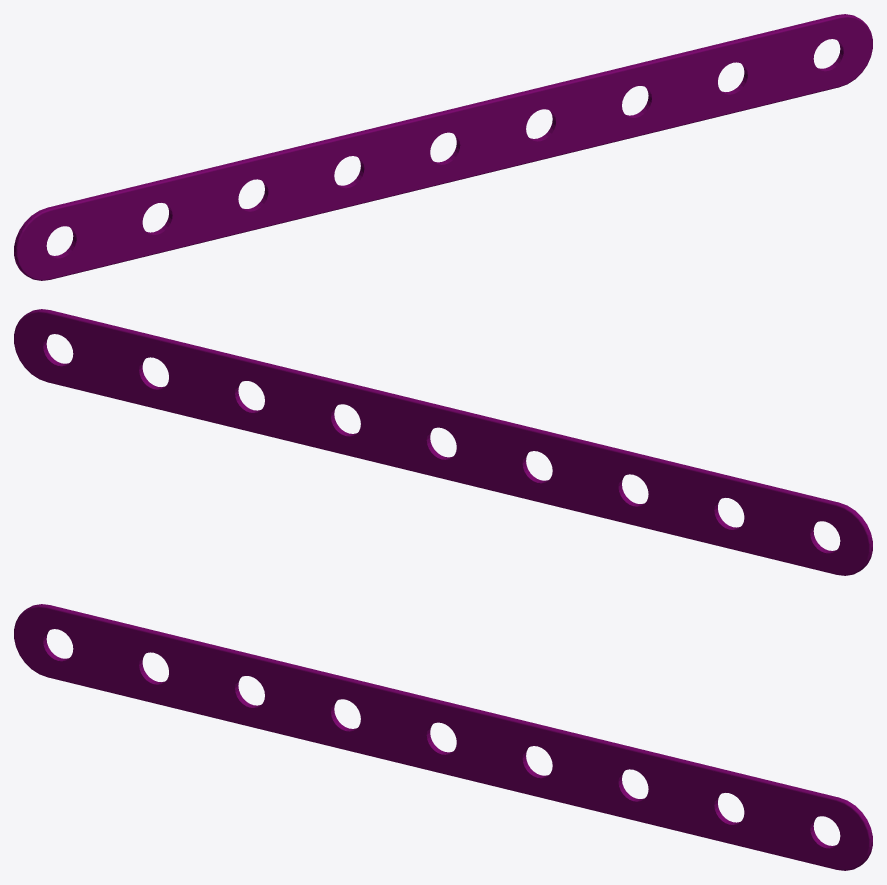
File: ThanhThanng_9.glb
3 renders of one model, top to bottom at view 1: azimuth 30°, elevation 25°; view 2: azimuth 150°, elevation 25°; view 3: azimuth 330°, elevation 25°, orthographic.
Visible parts, largest first — view 1: defaultobject.001; view 2: defaultobject.001; view 3: defaultobject.001.
Part boxes in pixels (x1=…): defaultobject.001: x1=14, y1=14, x2=872, y2=280; defaultobject.001: x1=14, y1=309, x2=872, y2=575; defaultobject.001: x1=14, y1=604, x2=872, y2=870.
Bounding box in the file's own units: 361 × 28.48 × 2.53.
